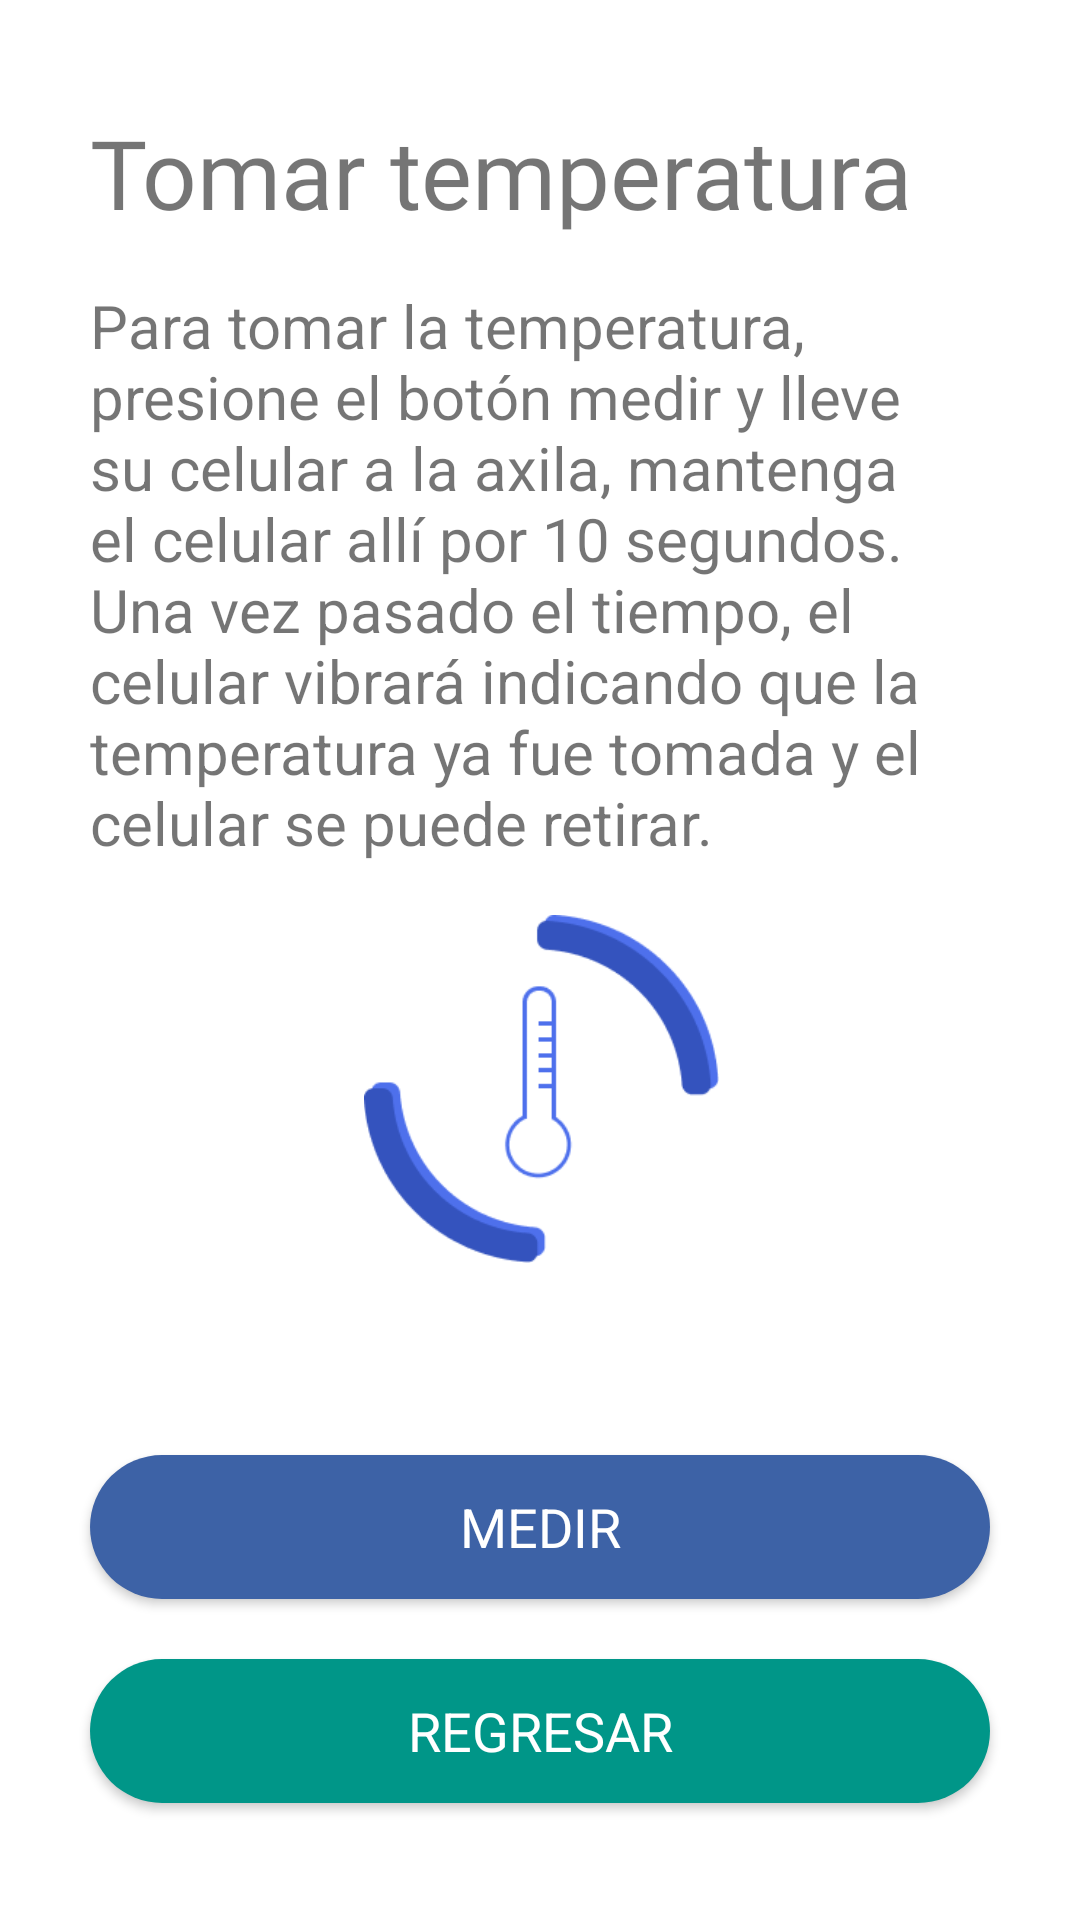

Where icons sit on this 1080 × 1920 app screen, as (x1,y1,x2,y2):
termometro rounded: (364,915,719,1263)
